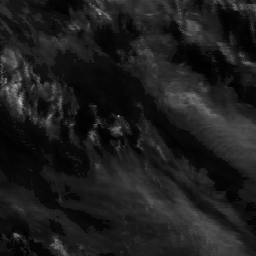Target: (116, 114, 120, 119)
